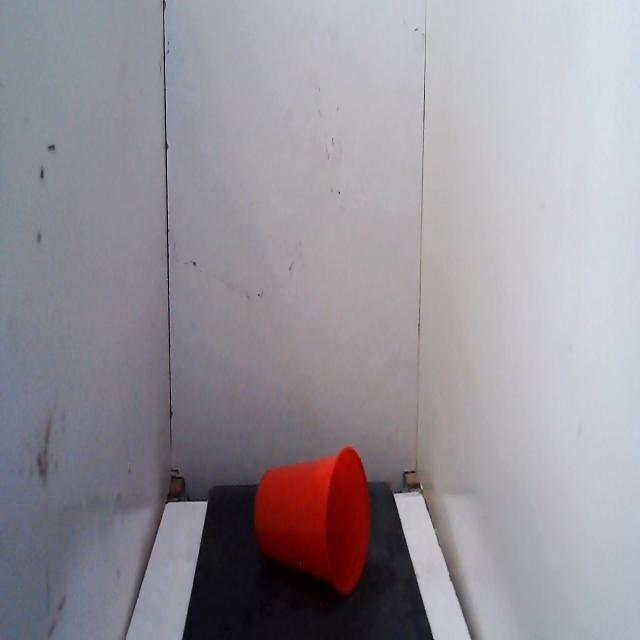plastico: (246, 436, 380, 612)
